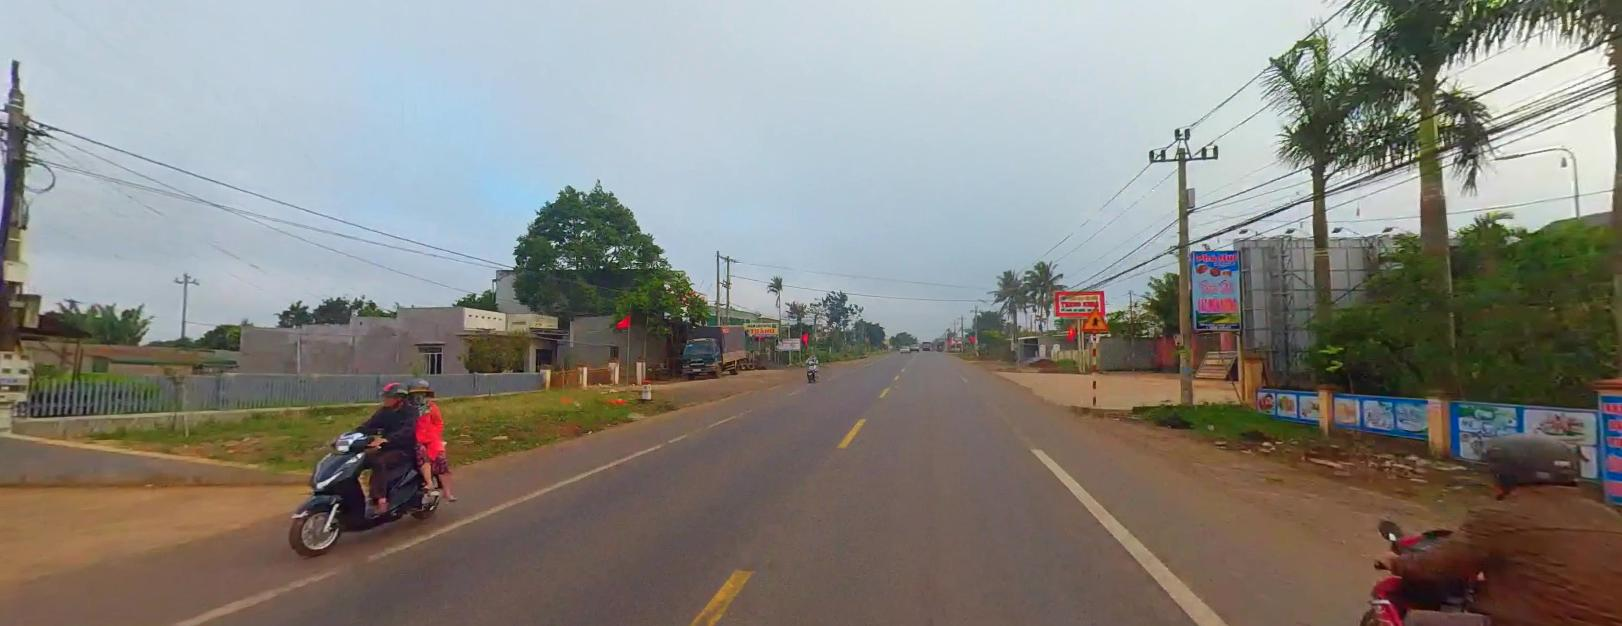Nguy hiem: (1079, 306, 1109, 330)
